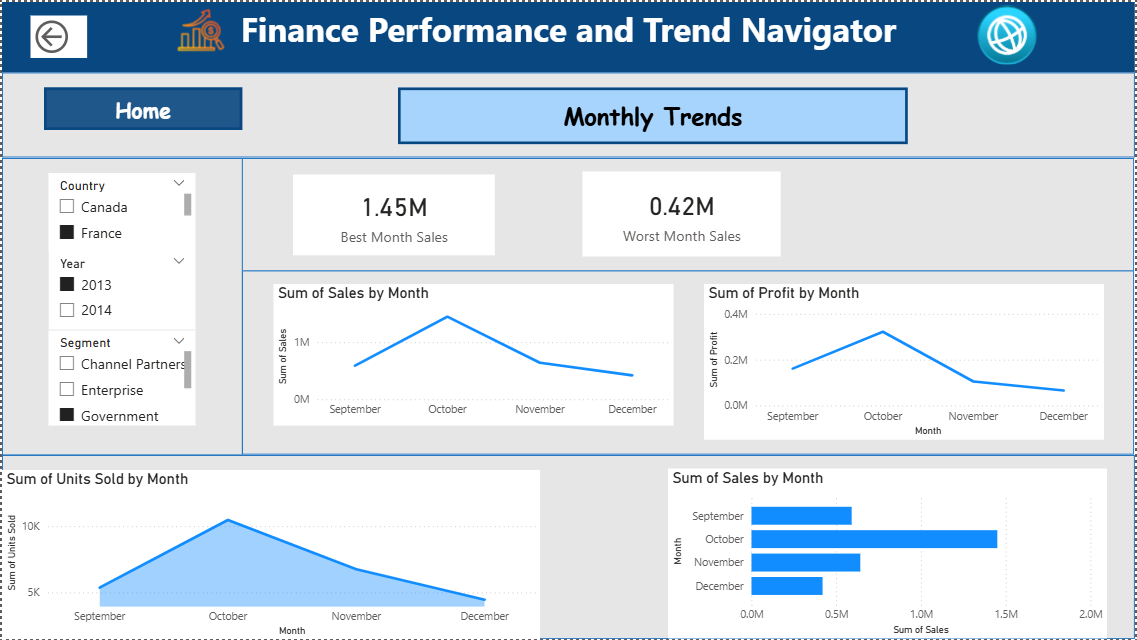

What the dashboard file says about the page in this screenshot:
{"tool":"powerbi","page":{"name":"Page3","canvas":[1280,720],"ordinal":12},"visuals":[{"type":"textbox","box":[0,0,1280,80],"z":0},{"type":"shape","box":[272,176,1008,128],"z":0,"group":"g7"},{"type":"slicer","fields":{"Values":["financials.Country"]},"box":[52.9,193.8,166.2,88.9],"z":0,"group":"g3"},{"type":"shape","box":[272,304,1008,208],"z":0,"group":"g4"},{"type":"group","id":"g1","title":"Group 5","box":[0,512,1280,208],"z":0,"group":"g5"},{"type":"shape","box":[0,512,1280,208],"z":0,"group":"g1"},{"type":"actionButton","box":[193.3,0,236.7,63.3],"z":1000},{"type":"card","fields":{"Values":["financials.Best Month Sales"]},"box":[329.1,194.3,228.2,91.4],"z":1000,"group":"g7"},{"type":"slicer","fields":{"Values":["financials.Date.Variation.Date Hierarchy.Year"]},"box":[52.9,282.7,166.2,88.9],"z":1000,"group":"g3"},{"type":"lineChart","fields":{"Category":["financials.Date.Variation.Date Hierarchy.Month"],"Y":["Sum(financials.Sales)"]},"box":[306.8,320,451.9,160],"z":1000,"group":"g4"},{"type":"actionButton","box":[1097.9,0,148,74.8],"z":2000},{"type":"lineChart","fields":{"Category":["financials.Date.Variation.Date Hierarchy.Month"],"Y":["Sum(financials.Profit)"]},"box":[793.4,320,451.9,176],"z":2000,"group":"g4"},{"type":"slicer","fields":{"Values":["financials.Segment"]},"box":[52.9,371.6,166.2,106.7],"z":2000,"group":"g3"},{"type":"barChart","fields":{"Y":["Sum(financials.Sales)"],"Category":["financials.Date.Variation.Date Hierarchy.Month"]},"box":[752,528,496,192],"z":2000,"group":"g5"},{"type":"group","id":"g2","title":"Group 1","box":[272,176,1008,128],"z":3000},{"type":"shape","box":[0,176,272,336],"z":4000},{"type":"group","id":"g3","title":"Group 4","box":[52.9,193.8,166.2,284.4],"z":5000},{"type":"group","id":"g4","title":"Group 3","box":[272,304,1008,208],"z":6000},{"type":"group","id":"g5","title":"Group 6","box":[0,512,1280,208],"z":7000},{"type":"group","id":"g6","title":"Group 7","box":[0,80,1280,96],"z":8000},{"type":"actionButton","box":[448,96,576,64],"z":9000},{"type":"actionButton","box":[48,96,224,48],"z":10000},{"type":"actionButton","box":[32,16,64,48],"z":11000},{"type":"card","fields":{"Values":["financials.Worst Month Sales"]},"box":[656,192,224,96],"z":12000},{"type":"shape","box":[0,80,1280,96],"z":12002,"group":"g6"},{"type":"areaChart","fields":{"Y":["Sum(financials.Units Sold)"],"Category":["financials.Date.Variation.Date Hierarchy.Month"]},"box":[0,528,608,192],"z":13000},{"type":"group","id":"g7","title":"Group 2","box":[272,176,1008,128],"z":18007,"group":"g2"}]}

Visuals, with their boxes in screenshot pixels (x1, y1, x2, y2), scaled from the page's 1280x720 canvas onto the 1137x640 screenshot:
textbox: left=0, top=0, right=1136, bottom=71
shape: left=242, top=156, right=1136, bottom=270
slicer - financials.Country: left=47, top=172, right=195, bottom=251
shape: left=242, top=270, right=1136, bottom=455
"Group 5" group: left=0, top=455, right=1136, bottom=639
shape: left=0, top=455, right=1136, bottom=639
actionButton: left=172, top=0, right=382, bottom=56
card - financials.Best Month Sales: left=292, top=173, right=495, bottom=254
slicer - financials.Date.Variation.Date Hierarchy.Year: left=47, top=251, right=195, bottom=330
lineChart - financials.Date.Variation.Date Hierarchy.Month x Sum(financials.Sales): left=273, top=284, right=674, bottom=427
actionButton: left=975, top=0, right=1107, bottom=66
lineChart - financials.Date.Variation.Date Hierarchy.Month x Sum(financials.Profit): left=705, top=284, right=1106, bottom=441
slicer - financials.Segment: left=47, top=330, right=195, bottom=425
barChart - Sum(financials.Sales) x financials.Date.Variation.Date Hierarchy.Month: left=668, top=469, right=1109, bottom=639
"Group 1" group: left=242, top=156, right=1136, bottom=270
shape: left=0, top=156, right=242, bottom=455
"Group 4" group: left=47, top=172, right=195, bottom=425
"Group 3" group: left=242, top=270, right=1136, bottom=455
"Group 6" group: left=0, top=455, right=1136, bottom=639
"Group 7" group: left=0, top=71, right=1136, bottom=156
actionButton: left=398, top=85, right=910, bottom=142
actionButton: left=43, top=85, right=242, bottom=128
actionButton: left=28, top=14, right=85, bottom=57
card - financials.Worst Month Sales: left=583, top=171, right=782, bottom=256
shape: left=0, top=71, right=1136, bottom=156
areaChart - Sum(financials.Units Sold) x financials.Date.Variation.Date Hierarchy.Month: left=0, top=469, right=540, bottom=639
"Group 2" group: left=242, top=156, right=1136, bottom=270
